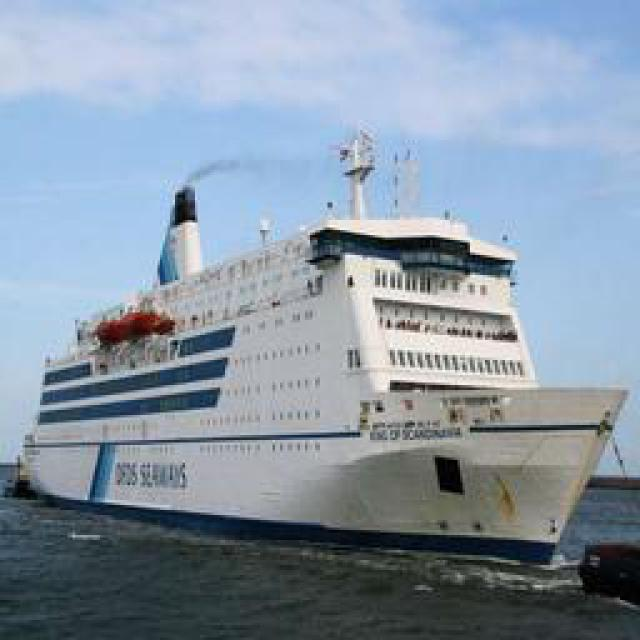Ship: (26, 95, 624, 568)
